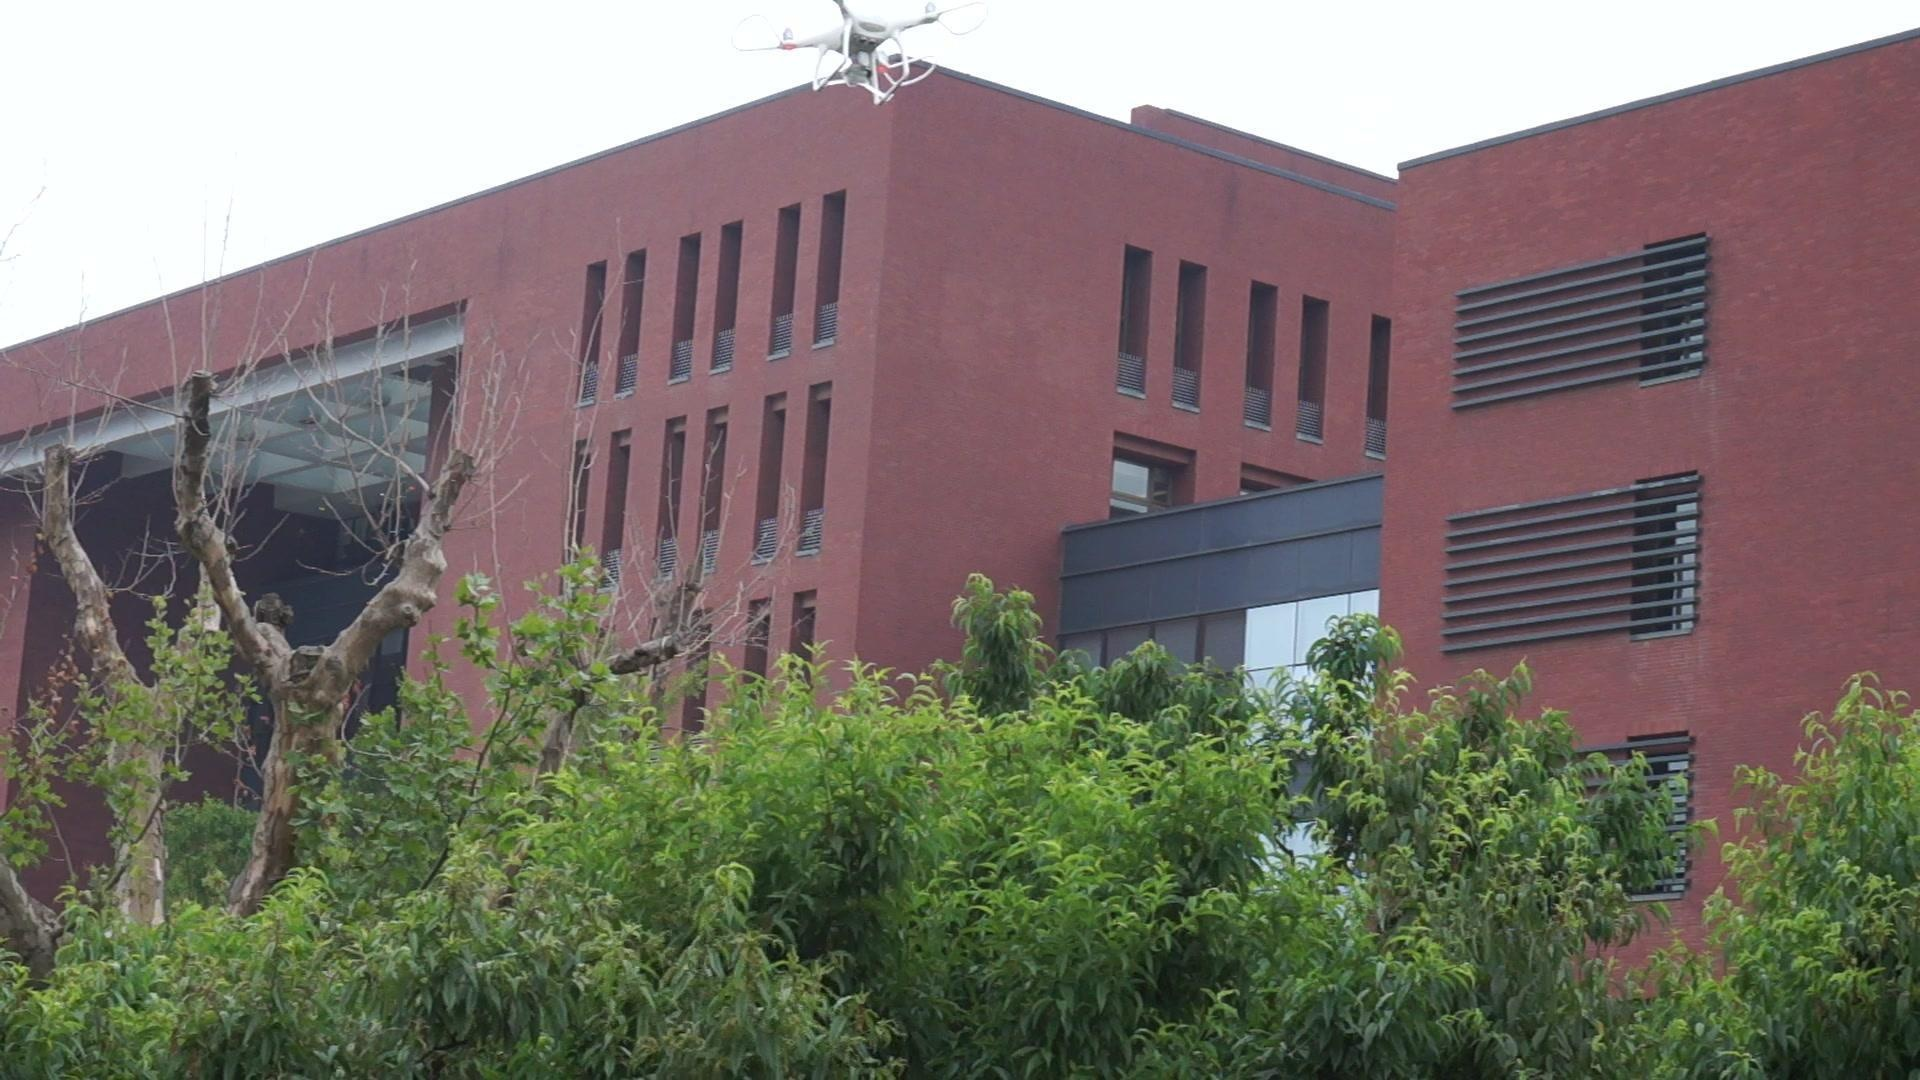UAV: (731, 1, 989, 107)
